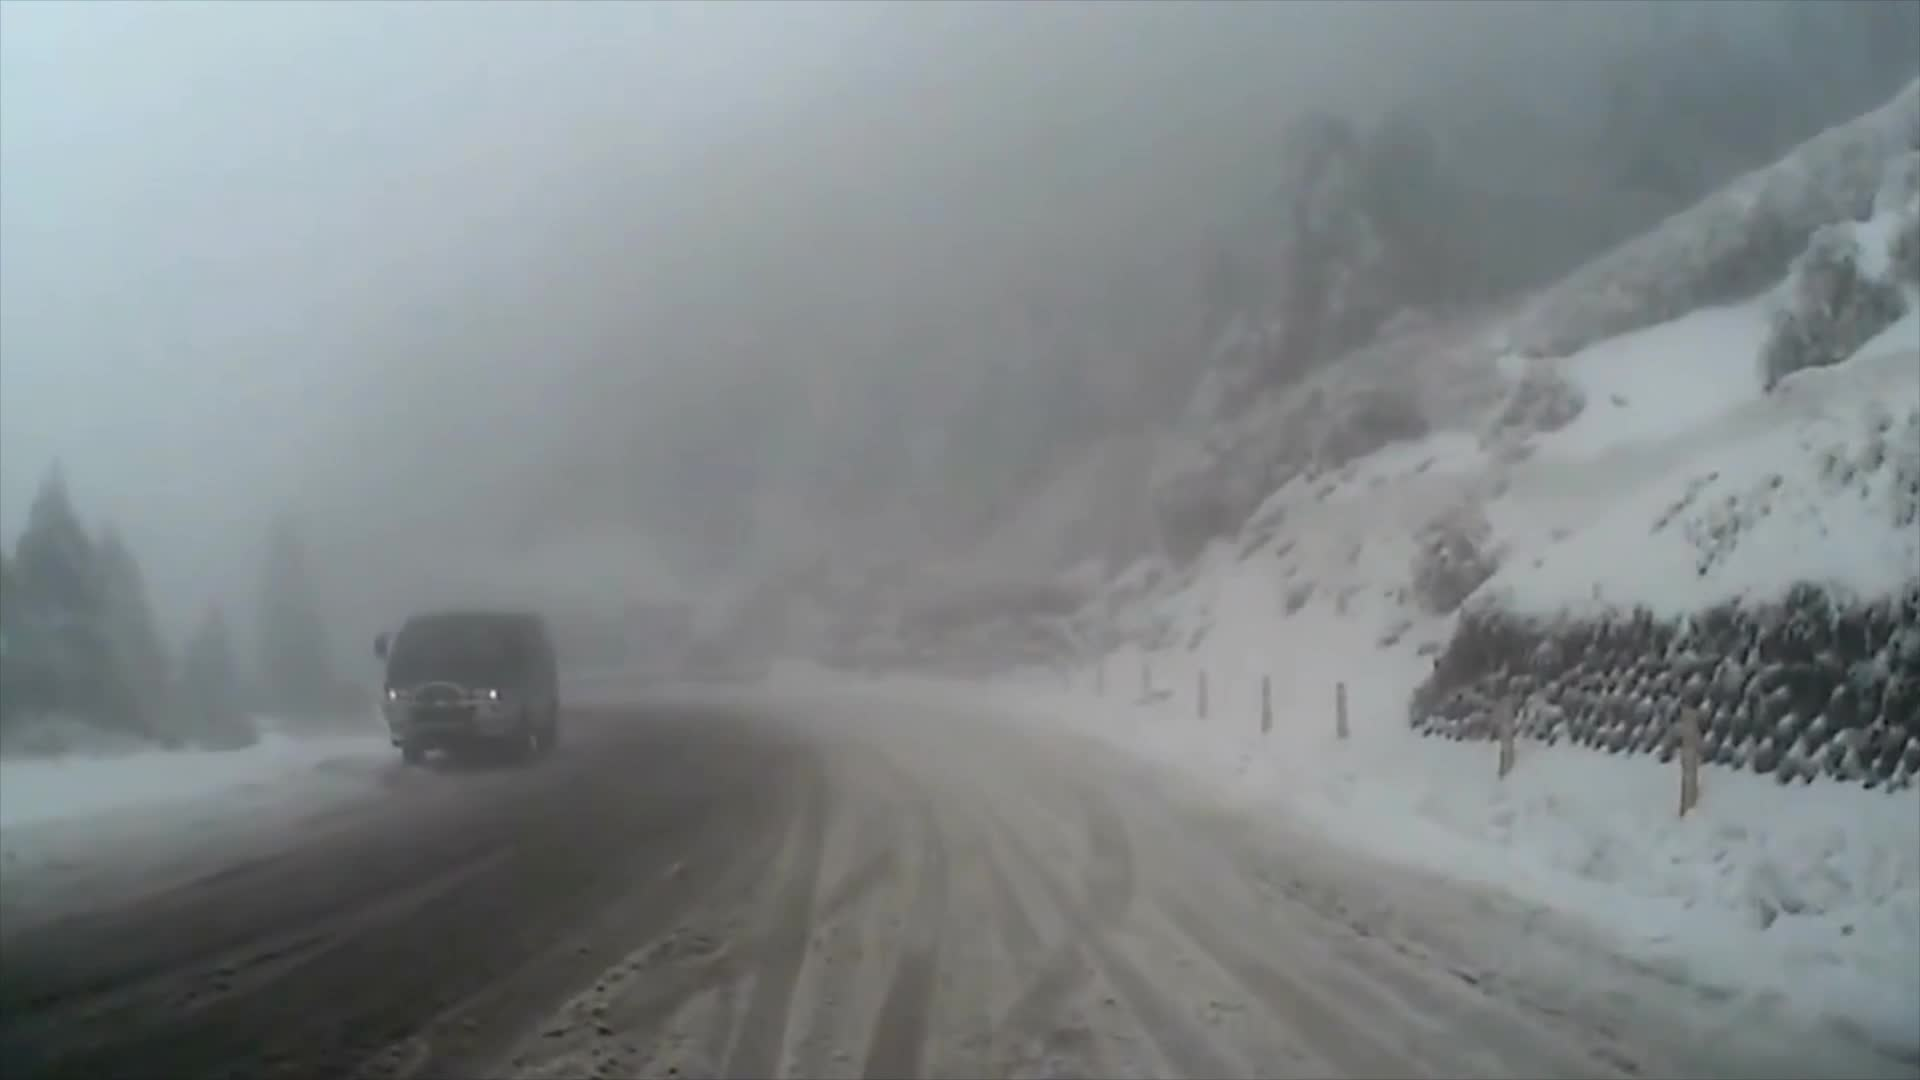vehicle: (369, 607, 560, 766)
